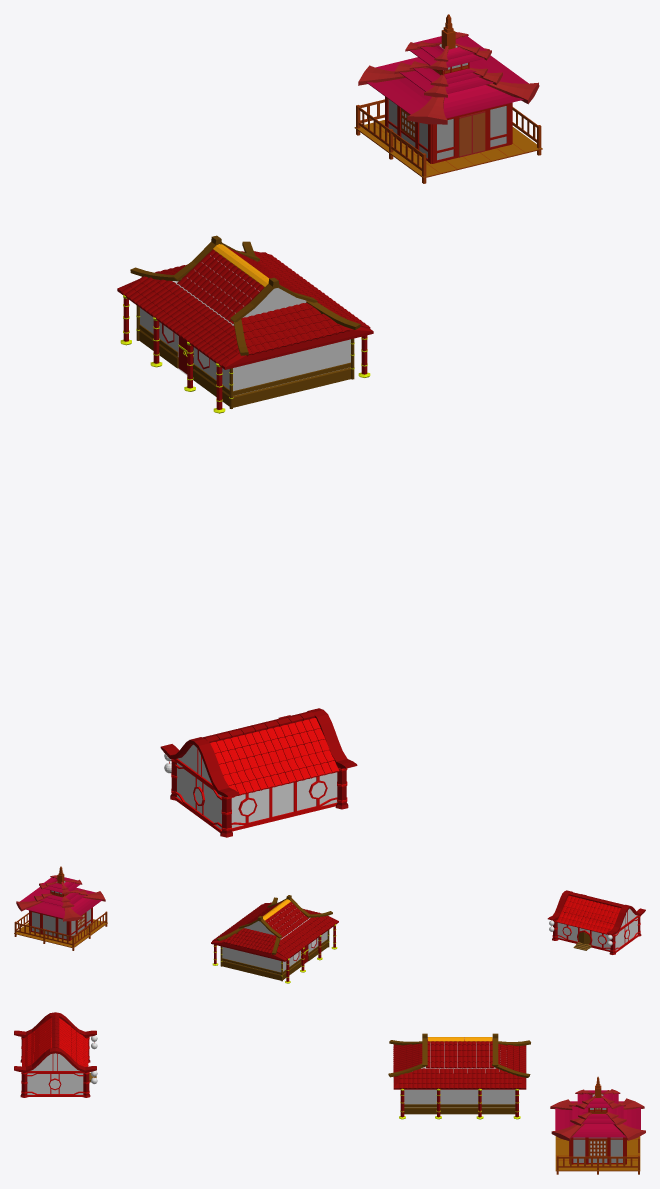
The model's file is Houses01.fbx.
3 views of the same model, one above another, from view 1: azimuth 30°, elevation 25°; view 2: azimuth 150°, elevation 25°; view 3: azimuth 270°, elevation 25° (orthographic). The views are drawn at different scales.
Parts seen in each view (by area): view 1: Telhado.006, House.005, Telhado, Telhado.005, House, HouseP, Varanda; view 2: Telhado.006, House.005, Telhado, Telhado.005, House, HouseP, Varanda; view 3: Telhado.006, House.005, Telhado.005, Telhado, House, Varanda, HouseP.
Part boxes in pixels (<box>): Telhado.006: <box>120,235,370,365</box>; House.005: <box>117,252,373,413</box>; Telhado: <box>160,708,357,797</box>; Telhado.005: <box>358,32,539,124</box>; House: <box>164,730,348,837</box>; HouseP: <box>385,14,512,163</box>; Varanda: <box>354,99,542,183</box>; Telhado.006: <box>212,895,337,959</box>; House.005: <box>211,903,338,983</box>; Telhado: <box>547,890,645,934</box>; Telhado.005: <box>16,875,105,921</box>; House: <box>549,906,641,954</box>; HouseP: <box>29,866,92,940</box>; Varanda: <box>14,911,107,950</box>; Telhado.006: <box>388,1033,530,1088</box>; House.005: <box>393,1038,526,1119</box>; Telhado.005: <box>550,1089,645,1140</box>; Telhado: <box>14,1012,96,1072</box>; House: <box>20,1035,97,1097</box>; Varanda: <box>555,1136,640,1174</box>; HouseP: <box>569,1076,626,1164</box>.
Bounding box in the file's own units: 28.82 × 11.22 × 33.61.
